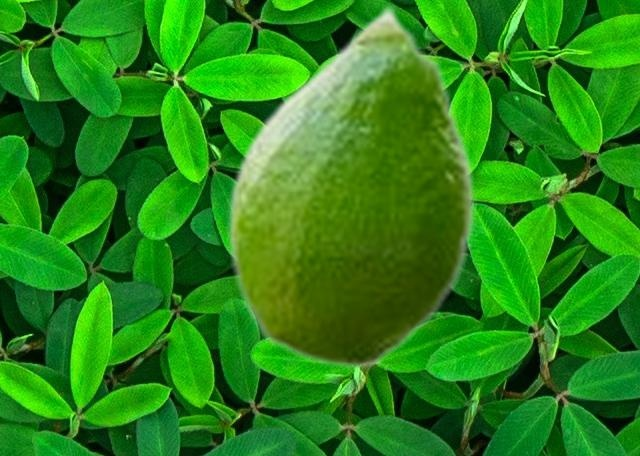avocado: (226, 2, 475, 369)
